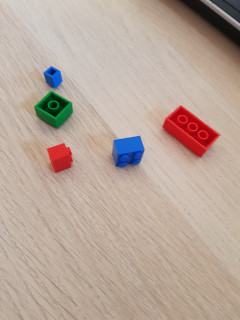1x1 blue: (41, 64, 64, 89)
1x2 red: (48, 142, 74, 173)
2x2 blue: (112, 136, 145, 167)
2x2 green: (34, 90, 75, 131)
2x4 red: (162, 105, 221, 158)
